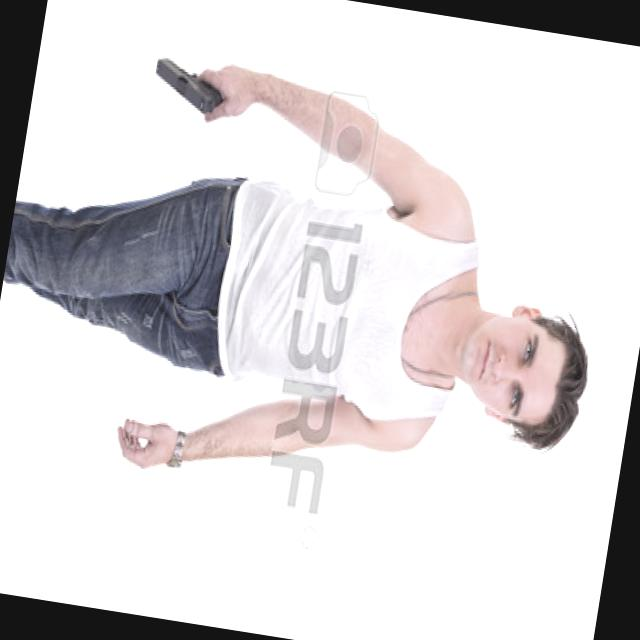handgun: (150, 42, 232, 117)
